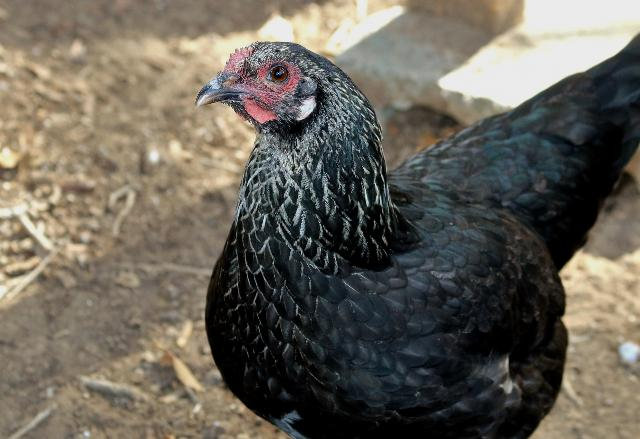Chicken: (193, 31, 640, 439)
